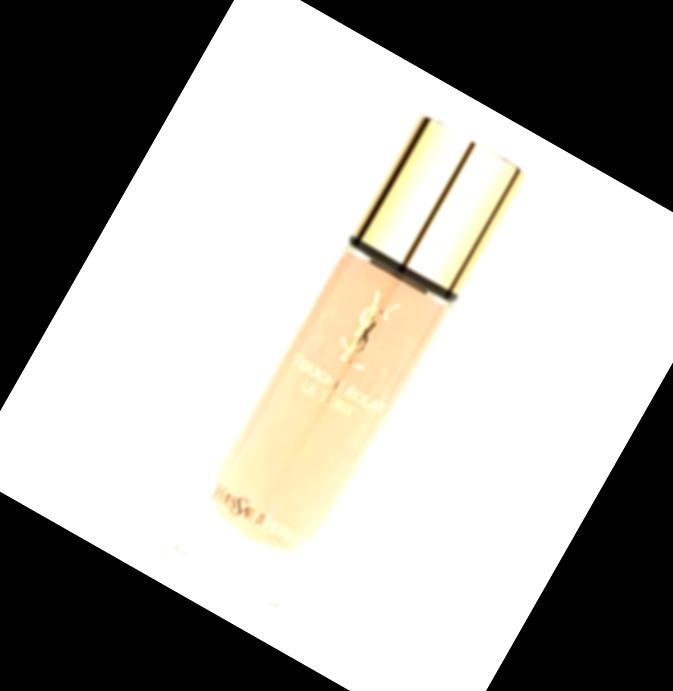cosmetic: (163, 107, 536, 623)
